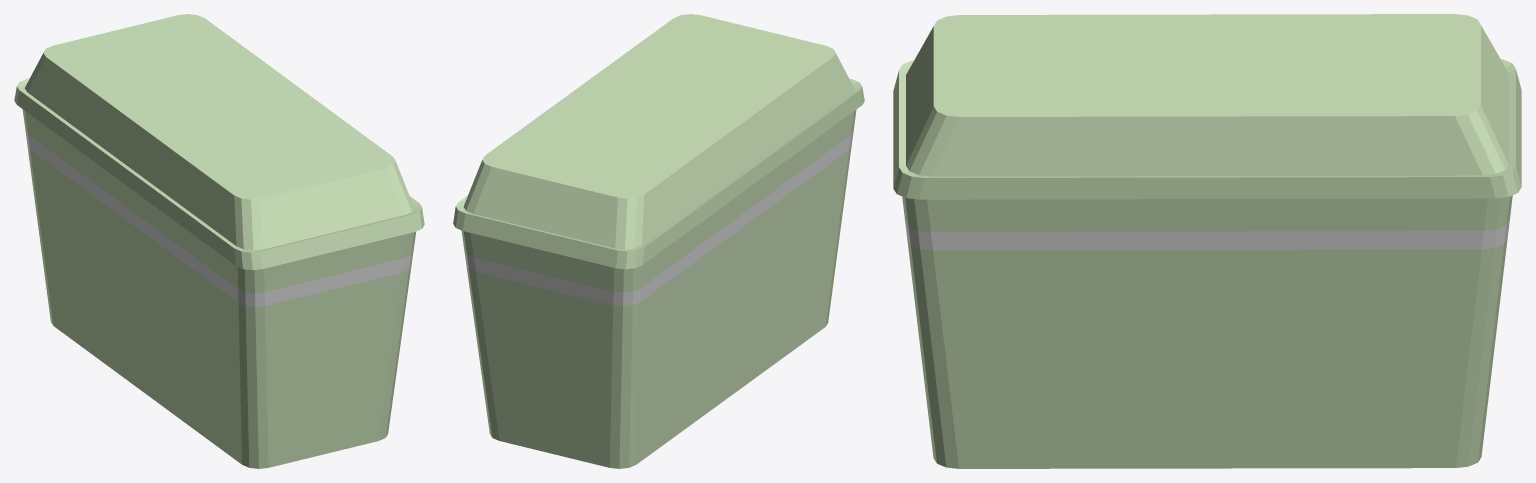
Rendered from engine.fbx.
3 views of the same model, side by side, from view 1: azimuth 30°, elevation 25°; view 2: azimuth 150°, elevation 25°; view 3: azimuth 270°, elevation 25° (orthographic). The views are drawn at different scales.
Visible parts, largest first — view 1: Tank.003; view 2: Tank.003; view 3: Tank.003.
Part boxes in pixels (left/top/right/bottom): Tank.003: left=14, top=14, right=424, bottom=468; Tank.003: left=453, top=14, right=864, bottom=468; Tank.003: left=893, top=14, right=1521, bottom=468.
Size of the model in its own units: 13.99 by 19.53 by 31.05.
